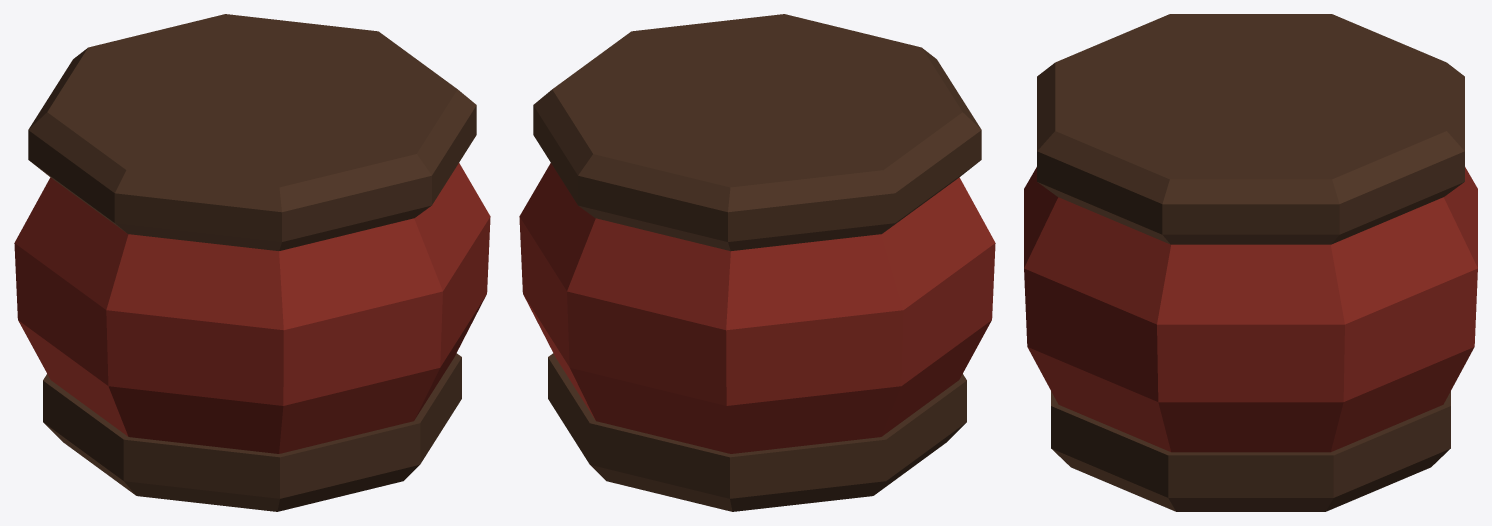
Rendered from fn_stool.glb.
3 views of the same model, side by side, from view 1: azimuth 30°, elevation 25°; view 2: azimuth 150°, elevation 25°; view 3: azimuth 270°, elevation 25° (orthographic). The views are drawn at different scales.
Visible parts, largest first — view 1: fn_stool__wood_dark, fn_stool__wood_red; view 2: fn_stool__wood_dark, fn_stool__wood_red; view 3: fn_stool__wood_dark, fn_stool__wood_red.
Part boxes in pixels (<box>): fn_stool__wood_dark: <box>28,14,476,511</box>; fn_stool__wood_red: <box>14,163,490,453</box>; fn_stool__wood_dark: <box>533,14,981,511</box>; fn_stool__wood_red: <box>519,163,995,453</box>; fn_stool__wood_dark: <box>1037,14,1464,511</box>; fn_stool__wood_red: <box>1024,167,1477,452</box>.
Size of the model in its own units: 5.52 by 4.55 by 5.52.
